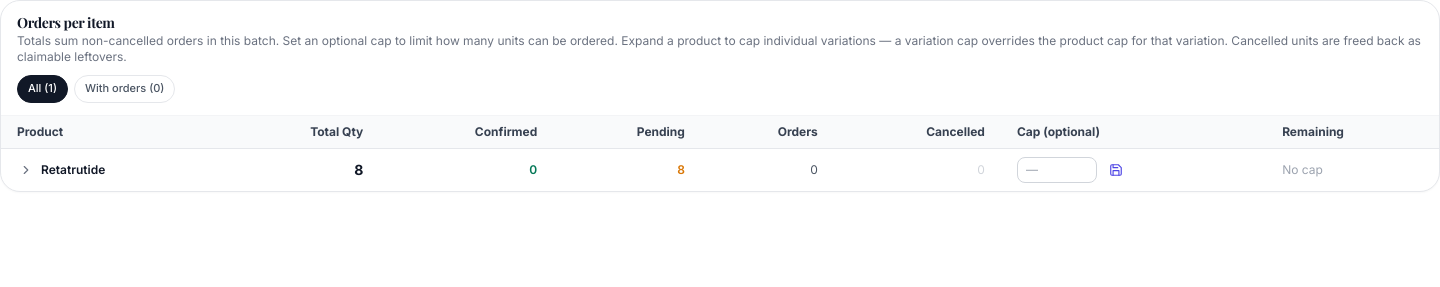
Test: CapsProgressTable variation expansion › shows the variation remaining from its own cap (override)
Click the button named "Expand variations for Retatrutide".
click(26, 170)  # box [17, 161, 35, 179]
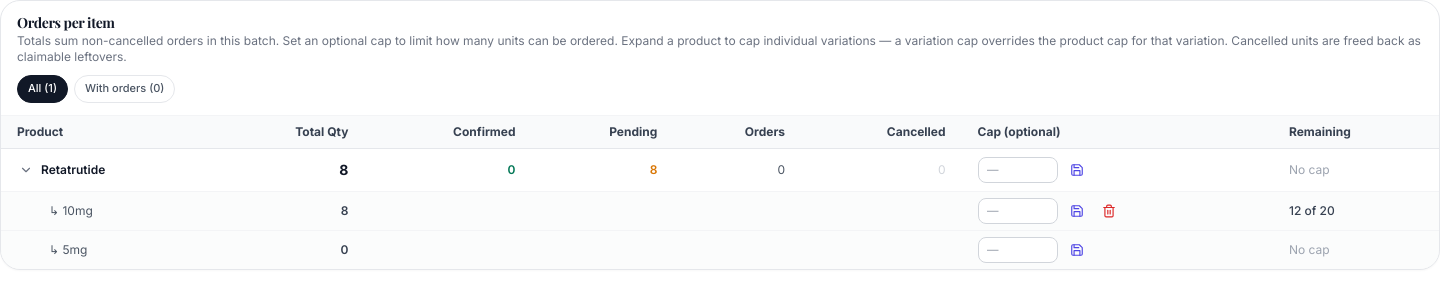
Expected: the text "12 of 20" is shown, [1289, 203, 1335, 218]
